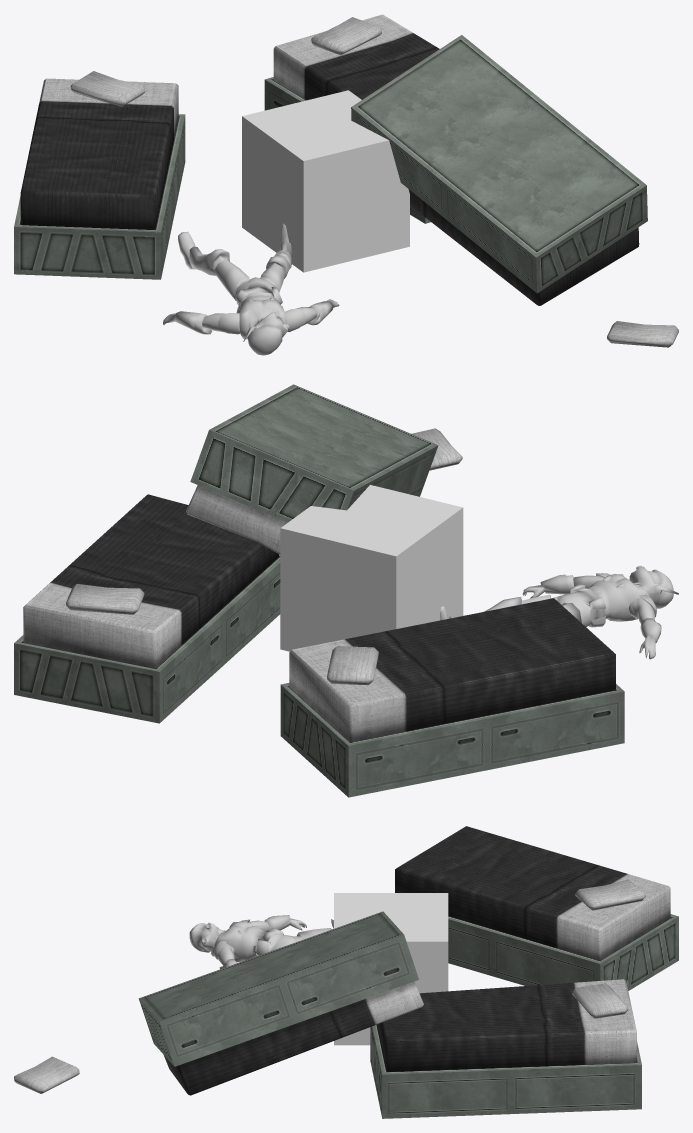
Rendered from pbscen06.FBX.
3 renders of one model, top to bottom at view 1: azimuth 30°, elevation 25°; view 2: azimuth 150°, elevation 25°; view 3: azimuth 270°, elevation 25°, orthographic. The views are drawn at different scales.
Parts seen in each view (by area): view 1: pbscen06, hp_dummyroot, objdpil005; view 2: pbscen06, hp_dummyroot, objdpil005; view 3: pbscen06, hp_dummyroot, objdpil005.
Part boxes in pixels (box(x1,y1,x2,y2)): pbscen06: box(14, 14, 678, 347); hp_dummyroot: box(242, 90, 409, 272); objdpil005: box(163, 223, 339, 355); pbscen06: box(14, 384, 624, 797); hp_dummyroot: box(280, 485, 463, 651); objdpil005: box(440, 565, 678, 659); pbscen06: box(14, 826, 678, 1118); hp_dummyroot: box(334, 893, 448, 1045); objdpil005: box(189, 915, 333, 969).
Size of the model in its own units: 4.58 by 5.81 by 1.51.
